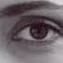eye: (30, 25, 48, 39)
